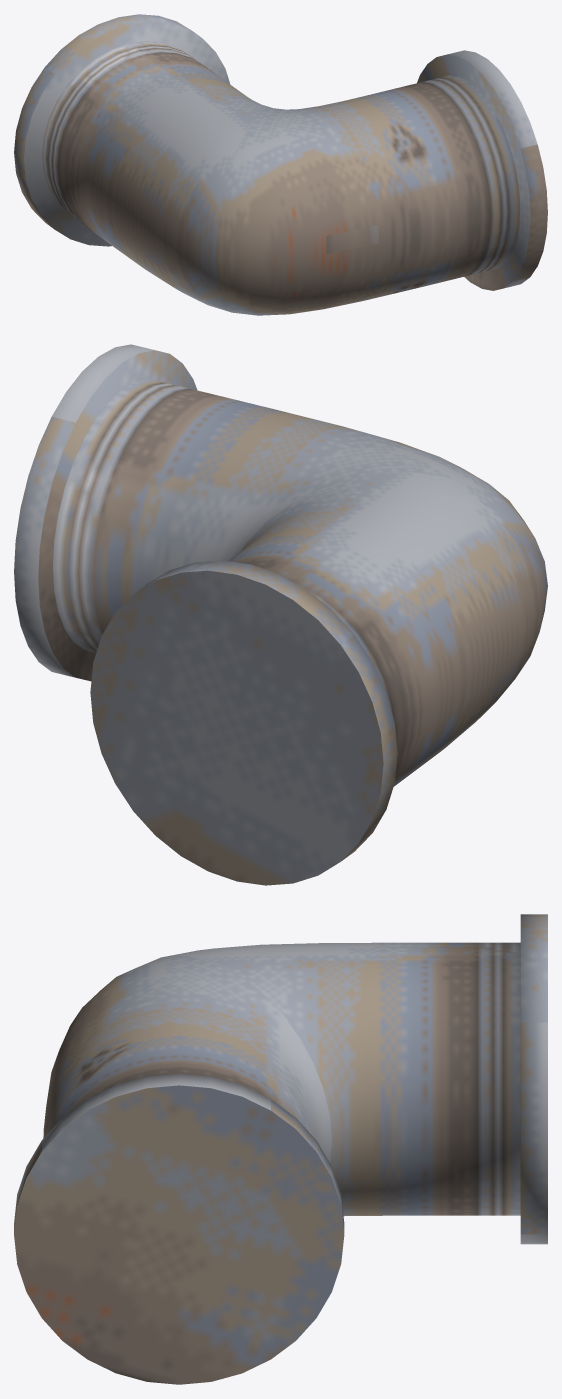
The model's file is pipe_turn_90.fbx.
3 renders of one model, top to bottom at view 1: azimuth 30°, elevation 25°; view 2: azimuth 150°, elevation 25°; view 3: azimuth 270°, elevation 25°, orthographic. The views are drawn at different scales.
Visible parts, largest first — view 1: 90_turn; view 2: 90_turn; view 3: 90_turn.
Boxes of the visible parts, x1,y1,x2,y2 form: 90_turn: (14, 14, 547, 315); 90_turn: (14, 344, 547, 885); 90_turn: (14, 914, 547, 1384).
Size of the model in its own units: 69.01 by 42.69 by 69.01.
